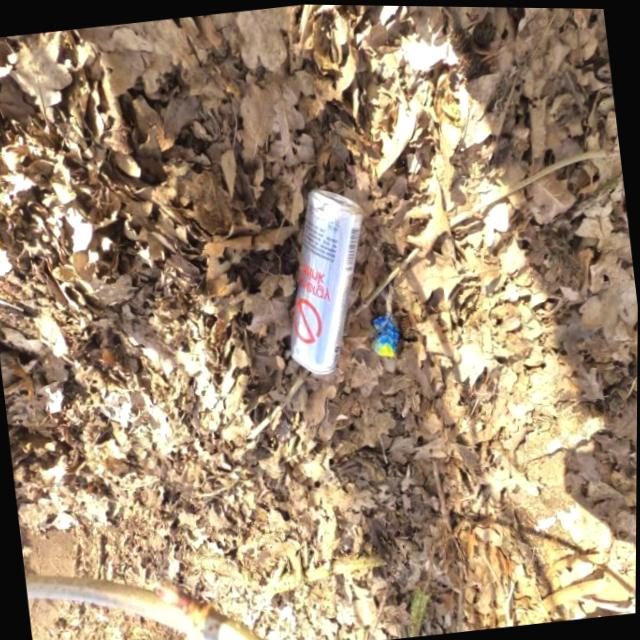Can-Metal: (270, 180, 385, 378)
Plastic: (367, 307, 403, 358)
